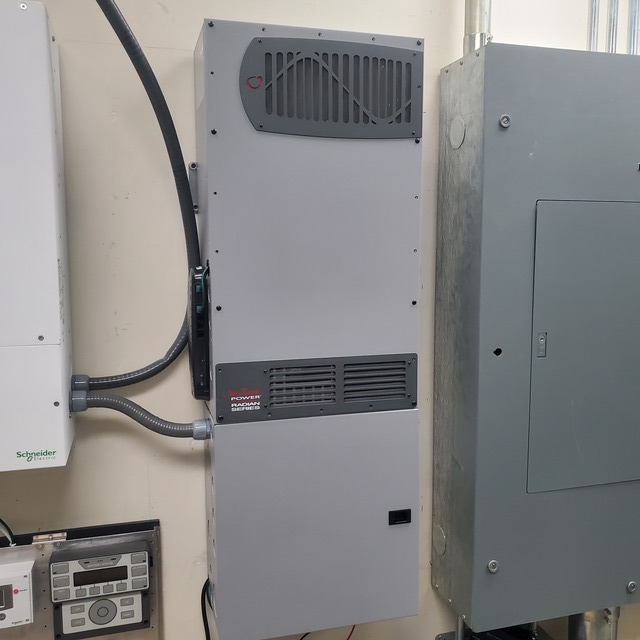inverter: (193, 19, 426, 640)
